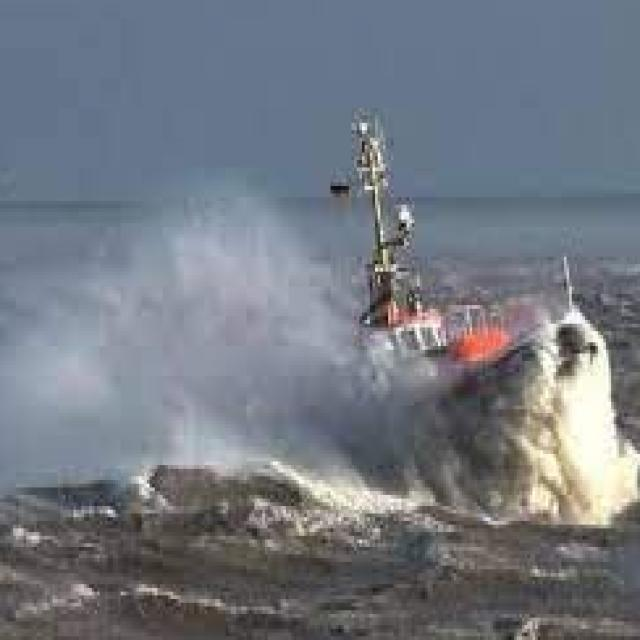houseboat: (317, 108, 590, 428)
